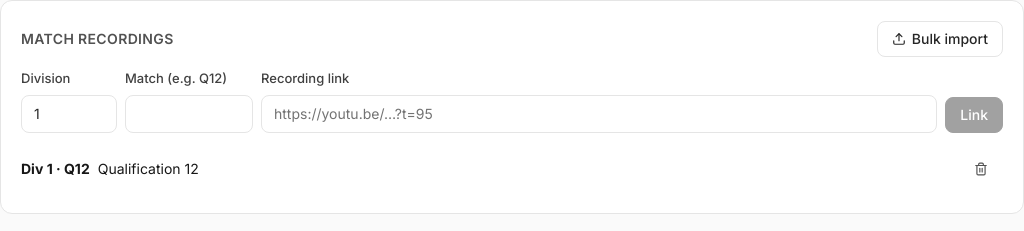
Scenario: MatchRecordingsCard › only enables Link for a division, match and http(s) URL
Later steps or results of the test are not shown.
Expected: the button "Link" is disabled, left=945, top=96, right=1003, bottom=132
Type "Q7" into the field named "Recording match". click: (189, 114)
box: left=125, top=94, right=253, bottom=132
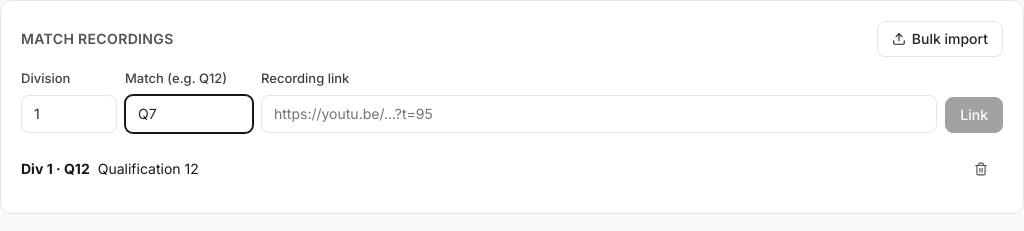
Type "javascript:x" into the field named "Recording link". click: (599, 114)
box: left=261, top=94, right=937, bottom=132
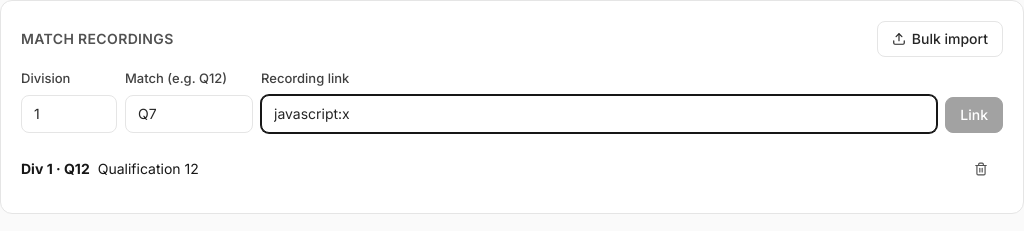
Expected: the button "Link" is disabled, left=945, top=96, right=1003, bottom=132
Replace the text in the field named "Recording link" with "https://v.example/7". click: (599, 114)
box: left=261, top=94, right=937, bottom=132
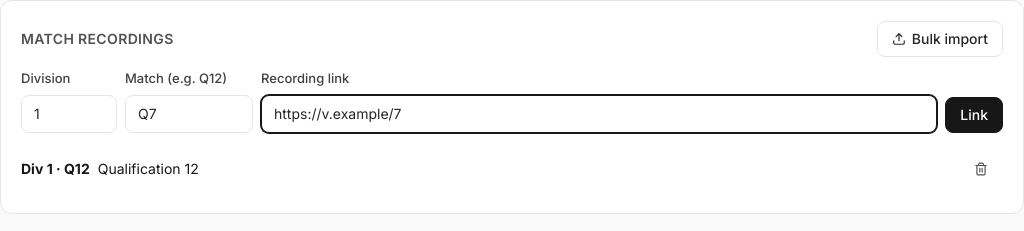
Expected: the button "Link" is enabled, left=945, top=96, right=1003, bottom=132
